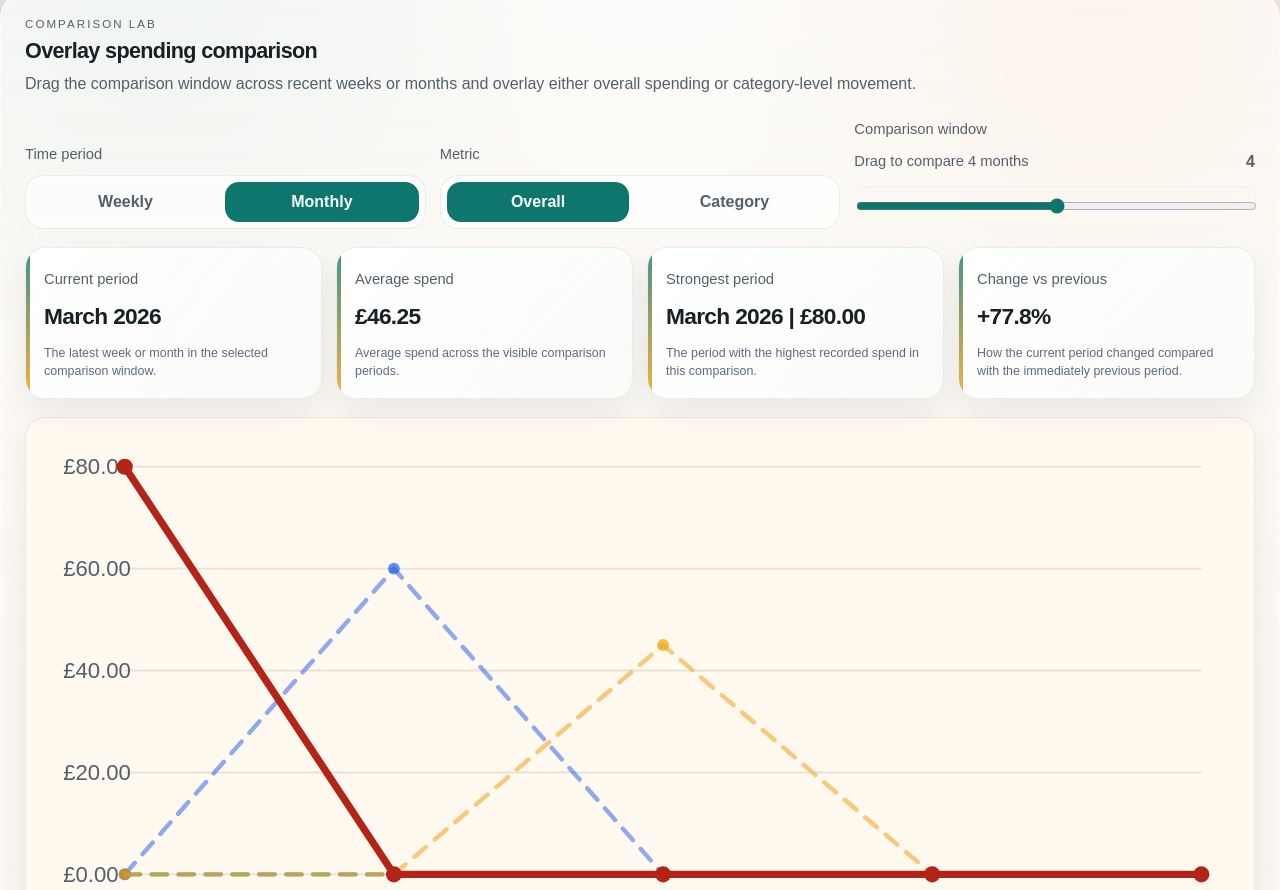
Scenario: SpendingComparisonPanel › supports switching between weekly and category comparison modes
This screenshot has width=1280, height=890.
Step 1. Click the button "Weekly" → (126,202), box [32,182,219,222]
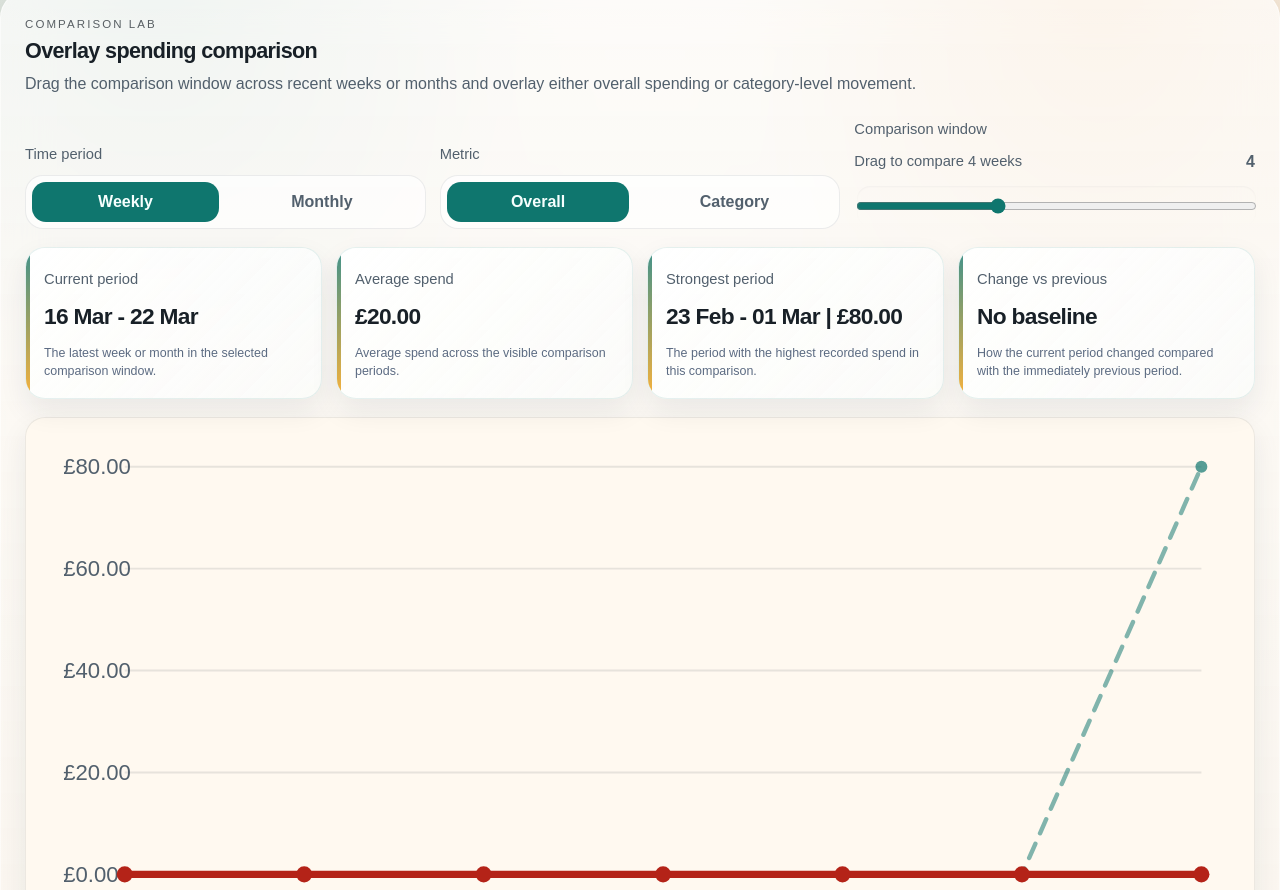
Step 2. Click the button "Category" → (734,202), box [635,182,833,222]
(page scrolled)
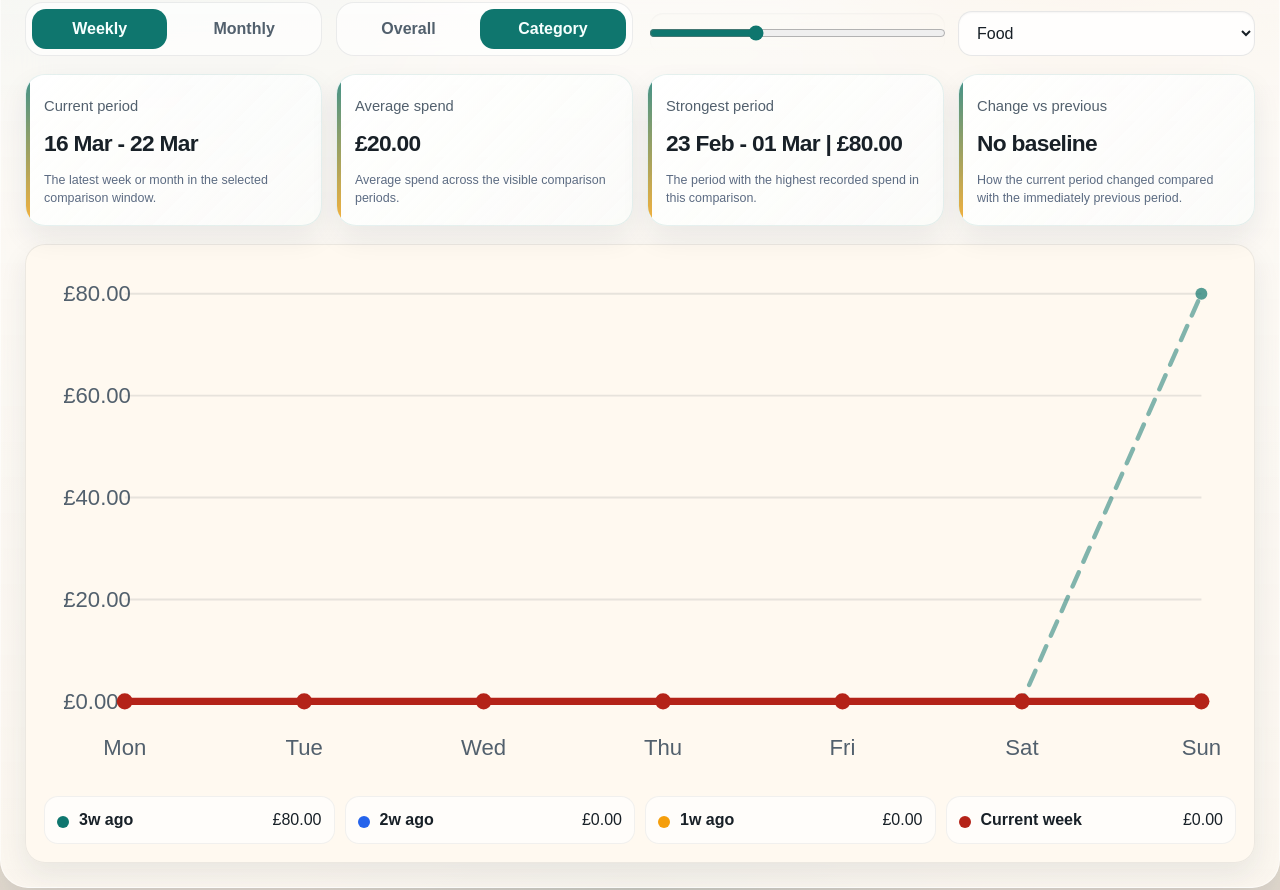
Expected: the icon named "Overlay spending comparison chart" is shown, [44,263,1236,782]
Now the dropdown labelled "Category" is shown, box [958,11,1255,56]
